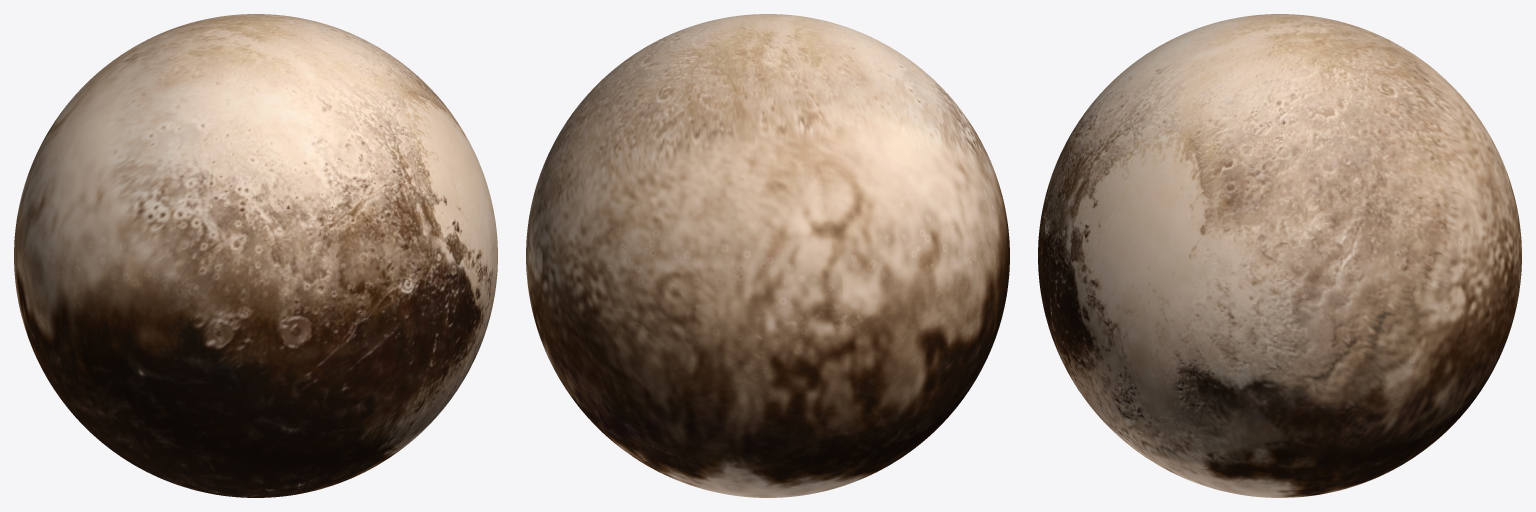
The model's file is pluton_v1.1.glb.
3 renders of one model, left to right at view 1: azimuth 30°, elevation 25°; view 2: azimuth 150°, elevation 25°; view 3: azimuth 270°, elevation 25°, orthographic.
Parts seen in each view (by area): view 1: Geode; view 2: Geode; view 3: Geode.
Boxes of the visible parts, left/top/right/bottom form: Geode: left=14, top=14, right=497, bottom=497; Geode: left=526, top=14, right=1009, bottom=497; Geode: left=1038, top=14, right=1521, bottom=497.
Bounding box in the file's own units: 200 × 200 × 200.
1 material, 1 textured.
